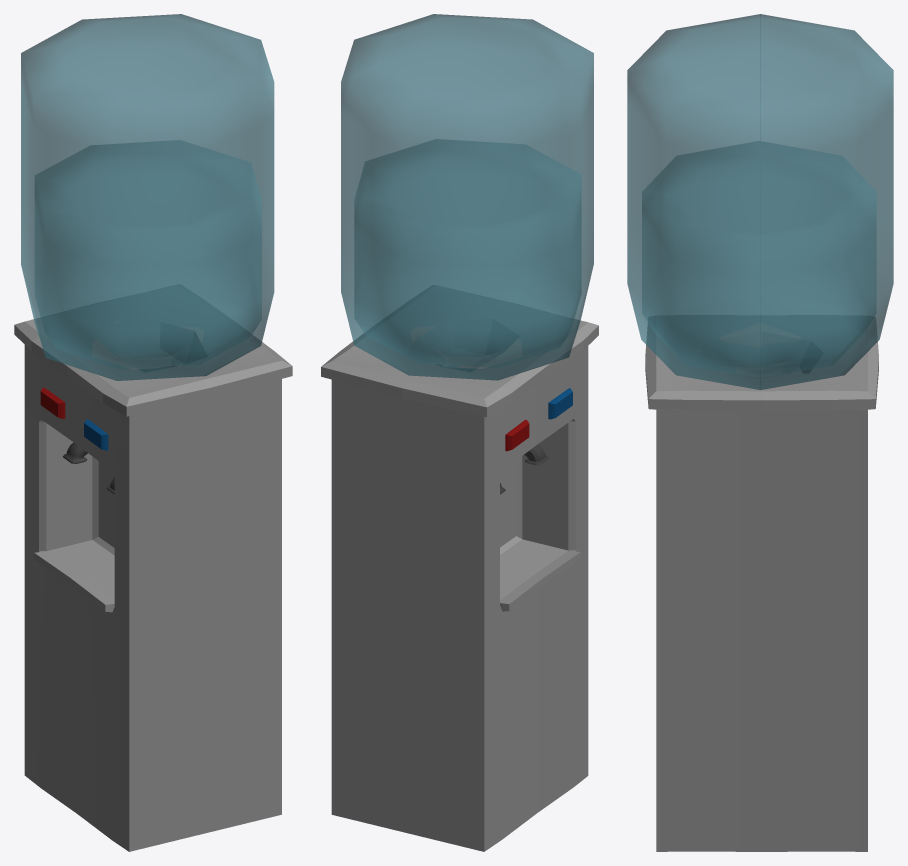
Rendered from Guadafon.FBX.
3 renders of one model, left to right at view 1: azimuth 30°, elevation 25°; view 2: azimuth 150°, elevation 25°; view 3: azimuth 270°, elevation 25°, orthographic.
Parts seen in each view (by area): view 1: Dispensador, agua; view 2: Dispensador, agua; view 3: Dispensador, agua.
Boxes of the visible parts, bbox=[...] form: Dispensador: bbox=[14, 318, 292, 851]; agua: bbox=[21, 14, 274, 380]; Dispensador: bbox=[321, 319, 598, 851]; agua: bbox=[341, 14, 593, 380]; Dispensador: bbox=[645, 317, 878, 851]; agua: bbox=[627, 14, 893, 389].
Size of the model in its own units: 60.16 by 190 by 60.16.
